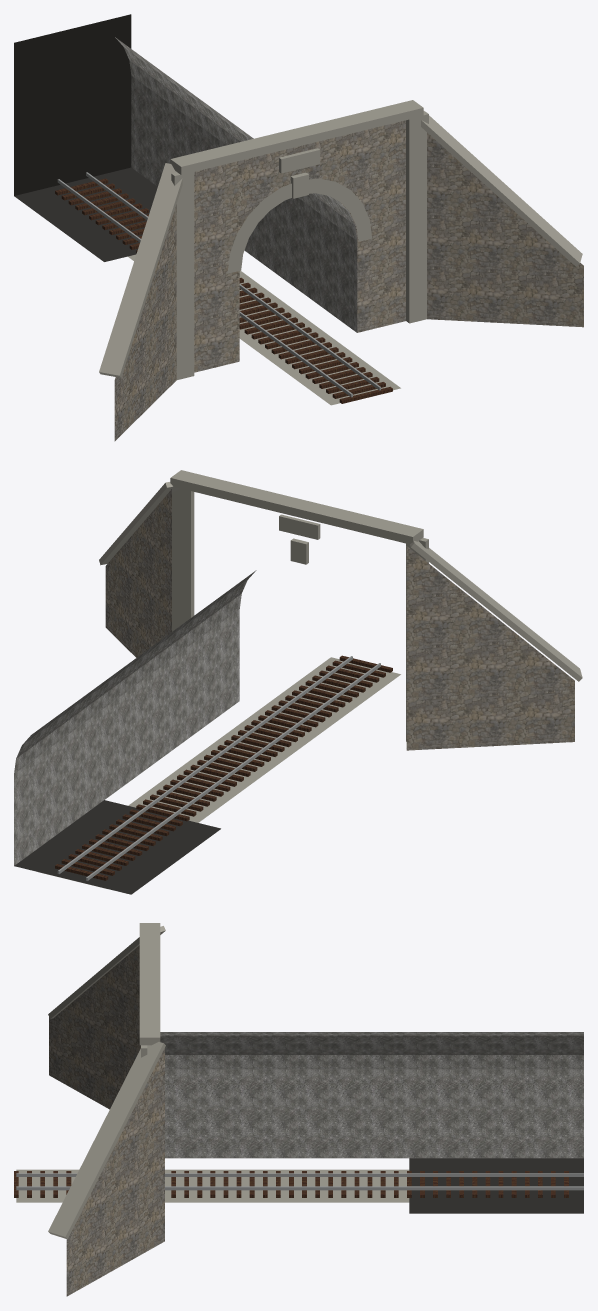
Rendered from town_tunnel_portal 2.gltf.
3 views of the same model, one above another, from view 1: azimuth 30°, elevation 25°; view 2: azimuth 150°, elevation 25°; view 3: azimuth 270°, elevation 25° (orthographic). The views are drawn at different scales.
Parts seen in each view (by area): view 1: TownTunnelPortal_Wings, TownTunnelPortal_Face, TownTunnelPortal_Coping, TownTunnelPortal_BoreEnd, TownTunnelPortal_Bore, TownTunnelPortal_Ties, TownTunnelPortal_BoreDark, TownTunnelPortal_Ballast, TownTunnelPortal_Voussoirs, TownTunnelPortal_Rails, TownTunnelPortal_DateStone; view 2: TownTunnelPortal_Wings, TownTunnelPortal_Bore, TownTunnelPortal_Ties, TownTunnelPortal_Coping, TownTunnelPortal_BoreDark, TownTunnelPortal_Ballast, TownTunnelPortal_Rails, TownTunnelPortal_DateStone; view 3: TownTunnelPortal_Bore, TownTunnelPortal_Wings, TownTunnelPortal_Coping, TownTunnelPortal_BoreDark, TownTunnelPortal_Ballast, TownTunnelPortal_Rails, TownTunnelPortal_Ties.
Boxes of the visible parts, <box> form: TownTunnelPortal_Wings: <box>114,132,583,441</box>; TownTunnelPortal_Face: <box>194,120,405,372</box>; TownTunnelPortal_Coping: <box>99,100,582,379</box>; TownTunnelPortal_BoreEnd: <box>14,14,131,195</box>; TownTunnelPortal_Bore: <box>115,37,357,332</box>; TownTunnelPortal_Ties: <box>55,178,392,403</box>; TownTunnelPortal_BoreDark: <box>14,167,157,261</box>; TownTunnelPortal_Ballast: <box>128,254,400,405</box>; TownTunnelPortal_Voussoirs: <box>227,172,371,273</box>; TownTunnelPortal_Rails: <box>57,172,380,397</box>; TownTunnelPortal_DateStone: <box>279,148,320,173</box>; TownTunnelPortal_Wings: <box>105,489,574,750</box>; TownTunnelPortal_Bore: <box>14,570,256,865</box>; TownTunnelPortal_Ties: <box>55,655,392,880</box>; TownTunnelPortal_Coping: <box>99,470,582,741</box>; TownTunnelPortal_BoreDark: <box>14,800,220,894</box>; TownTunnelPortal_Ballast: <box>38,657,400,888</box>; TownTunnelPortal_Rails: <box>57,656,380,880</box>; TownTunnelPortal_DateStone: <box>279,514,320,539</box>; TownTunnelPortal_Bore: <box>160,1032,583,1158</box>; TownTunnelPortal_Wings: <box>49,945,164,1296</box>; TownTunnelPortal_Coping: <box>48,923,165,1239</box>; TownTunnelPortal_BoreDark: <box>409,1158,583,1213</box>; TownTunnelPortal_Ballast: <box>16,1169,409,1202</box>; TownTunnelPortal_Rails: <box>16,1173,583,1190</box>; TownTunnelPortal_Ties: <box>14,1171,568,1197</box>.
Size of what is drawn, in the model's own units: 24.74 by 10.4 by 26.11.
1 material, 1 textured.
